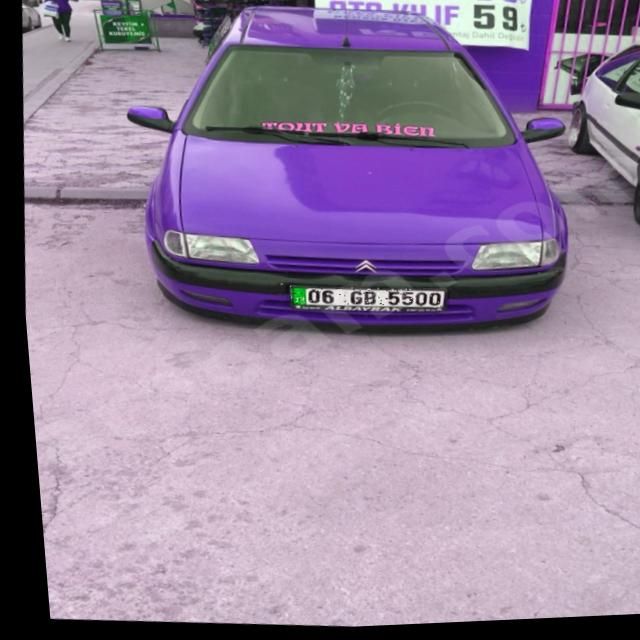license_plate: (283, 282, 440, 317)
